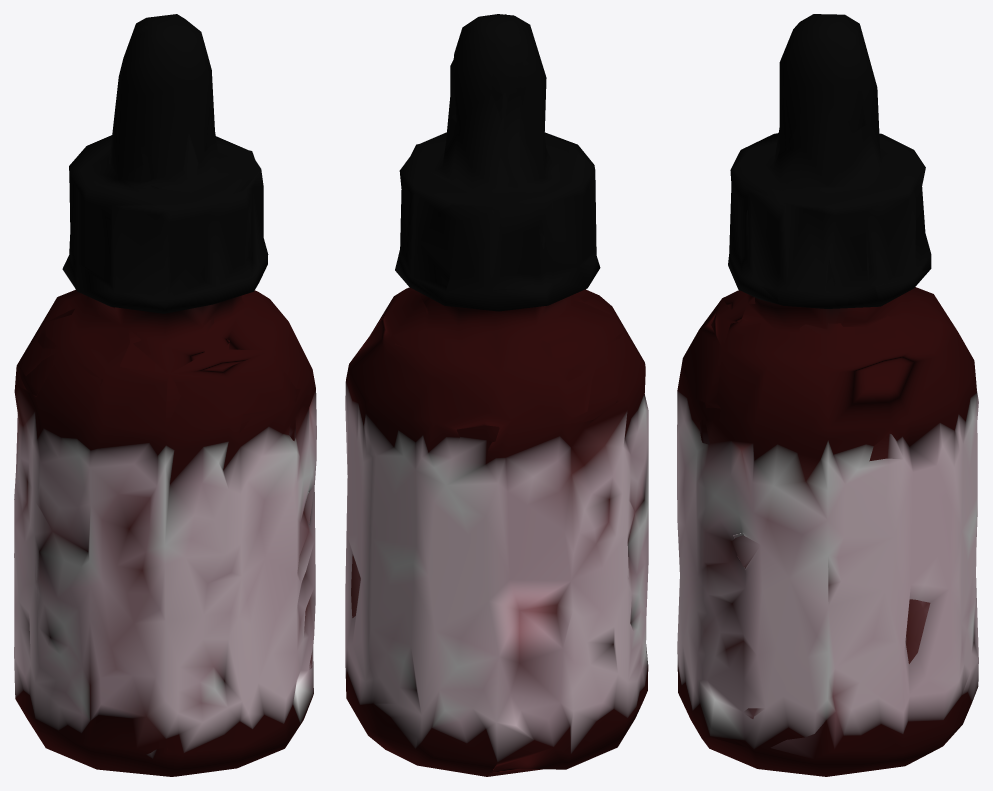
Rendered from gen3d-medicine-bottle-lod0.glb.
3 views of the same model, side by side, from view 1: azimuth 30°, elevation 25°; view 2: azimuth 150°, elevation 25°; view 3: azimuth 270°, elevation 25° (orthographic).
Visible parts, largest first — view 1: part_0; view 2: part_0; view 3: part_0.
Boxes of the visible parts, box(x1,y1,x2,y2) form: part_0: box(14, 14, 316, 776); part_0: box(345, 14, 648, 776); part_0: box(677, 14, 978, 776).
Bounding box in the file's own units: 0.3889 × 0.9996 × 0.3889.
